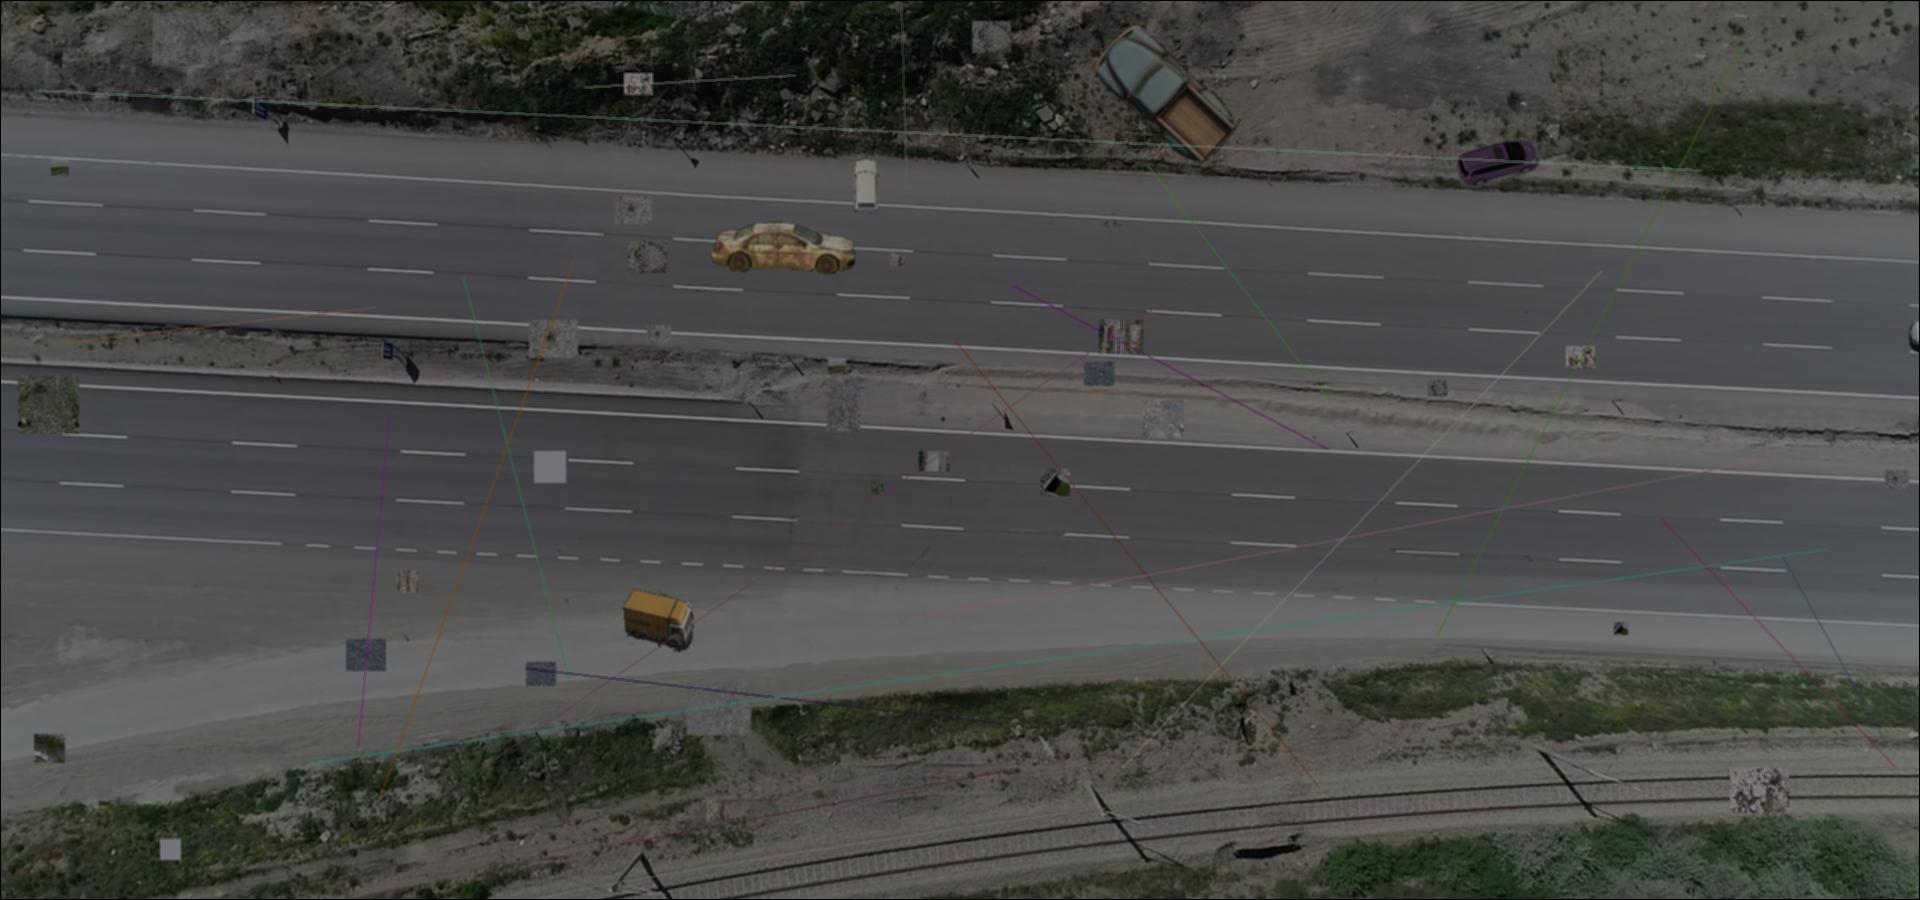arac: (1090, 22, 1240, 164), (708, 220, 861, 274), (621, 589, 696, 651), (1453, 140, 1542, 187), (853, 159, 880, 214)
